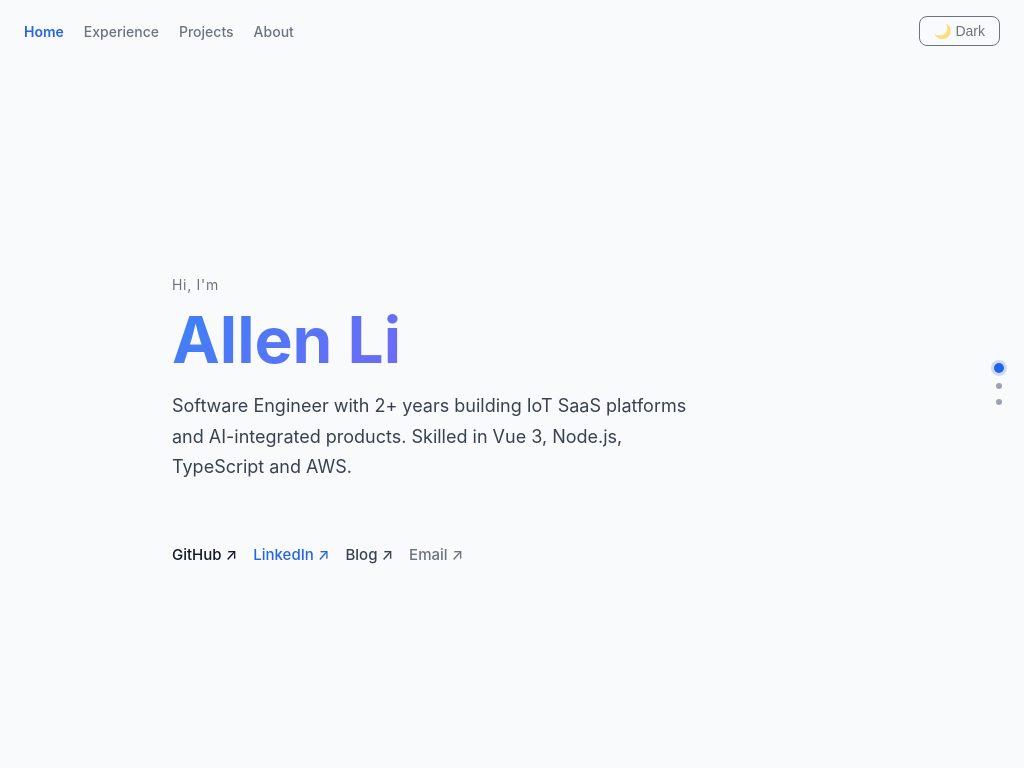
Test case: App routing › navigates to About and shows page
The width and height of the screenshot is (1024, 768).
What coordinates should you click on to do the following:
click the link "About"
I would click on:
 (274, 31)
Its box is [254, 22, 294, 40].
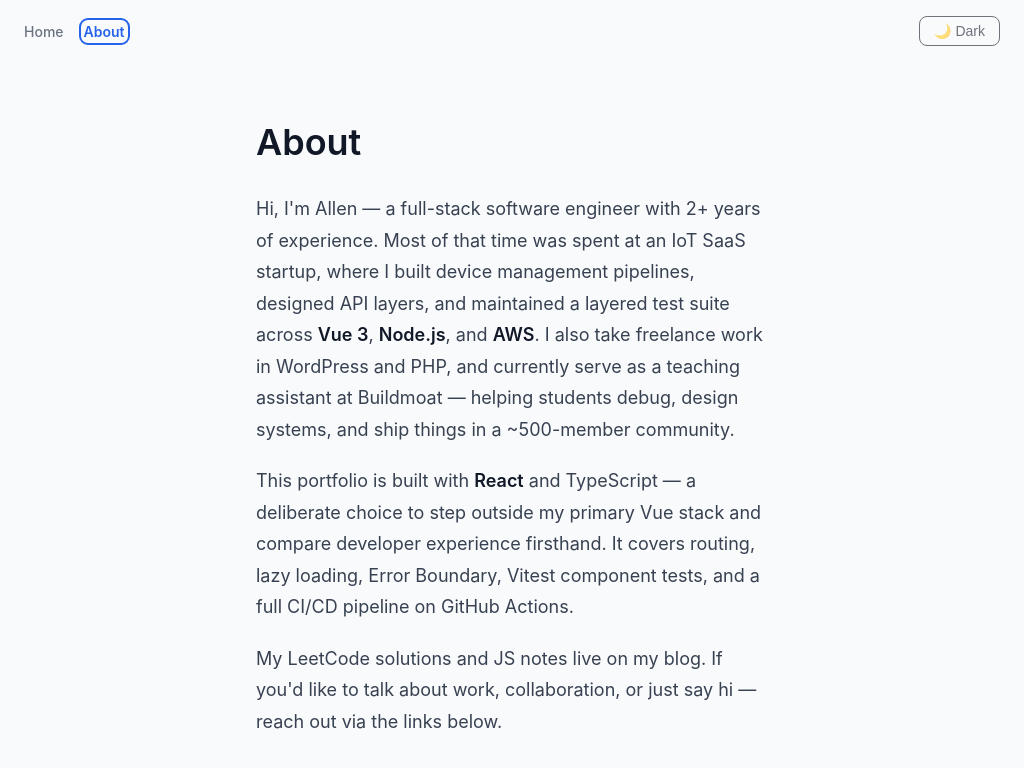
Now the heading "About" is shown, box [256, 120, 361, 164]
